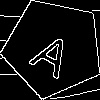A: (28, 23, 83, 80)
